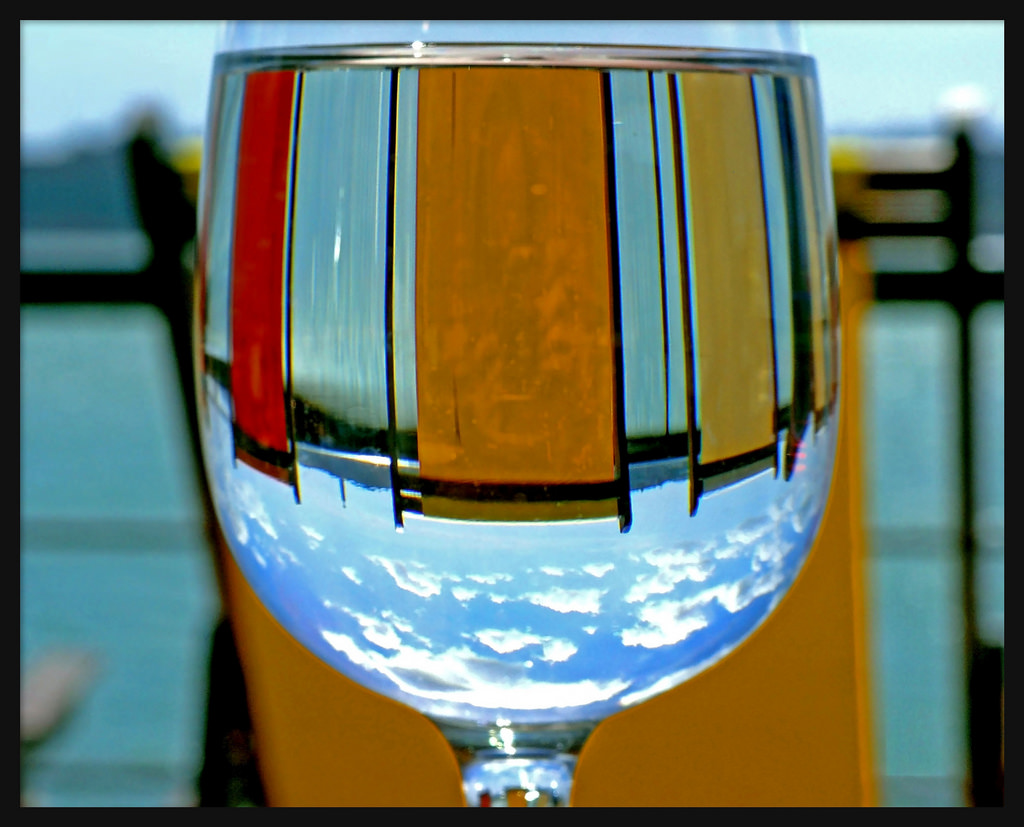glass of water: (206, 28, 792, 827)
